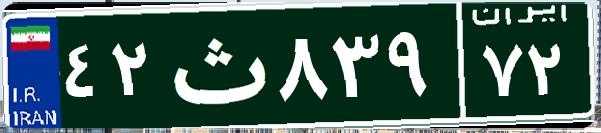2: (110, 28, 158, 105), (525, 38, 570, 115)
3: (330, 28, 385, 110)
4: (57, 26, 110, 107)
7: (475, 38, 525, 113)
8: (273, 28, 330, 110)
9: (385, 28, 445, 110)
ث: (158, 15, 273, 115)
